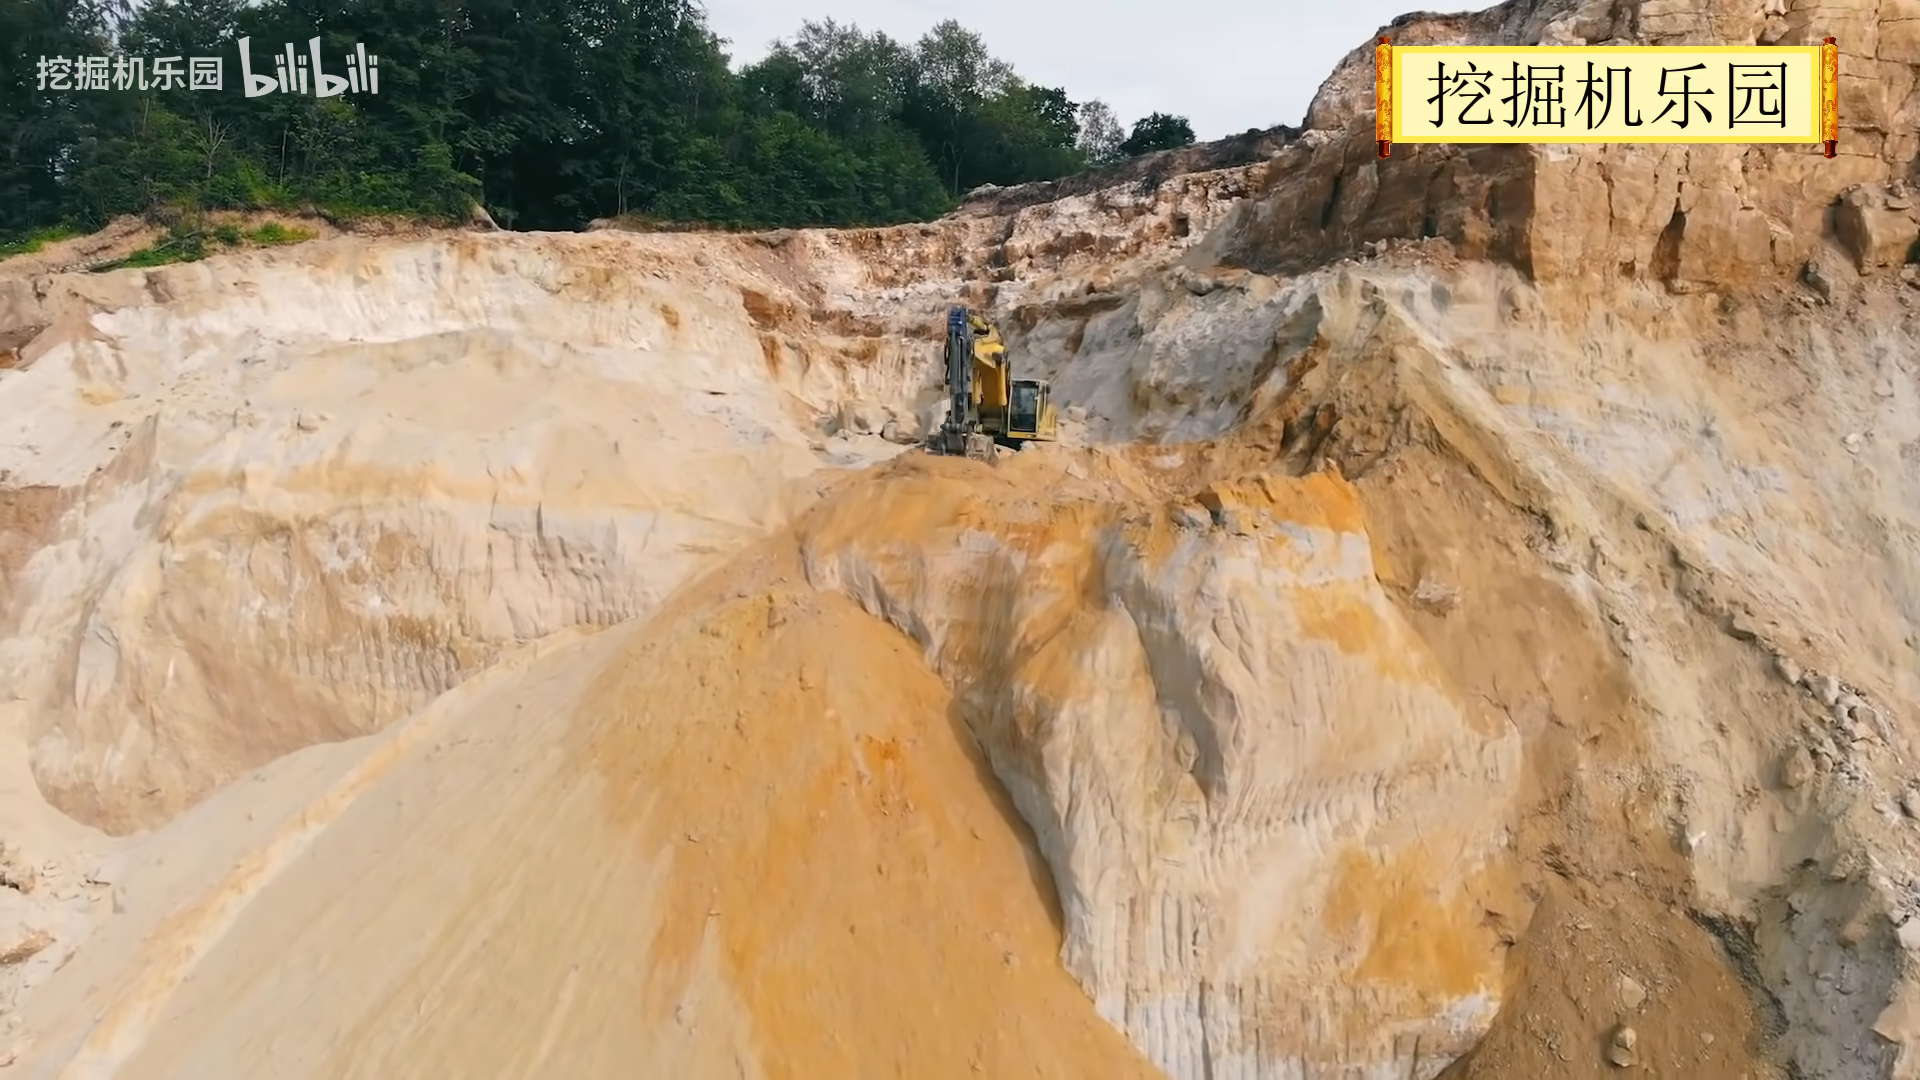excavator: (926, 286, 1052, 458)
